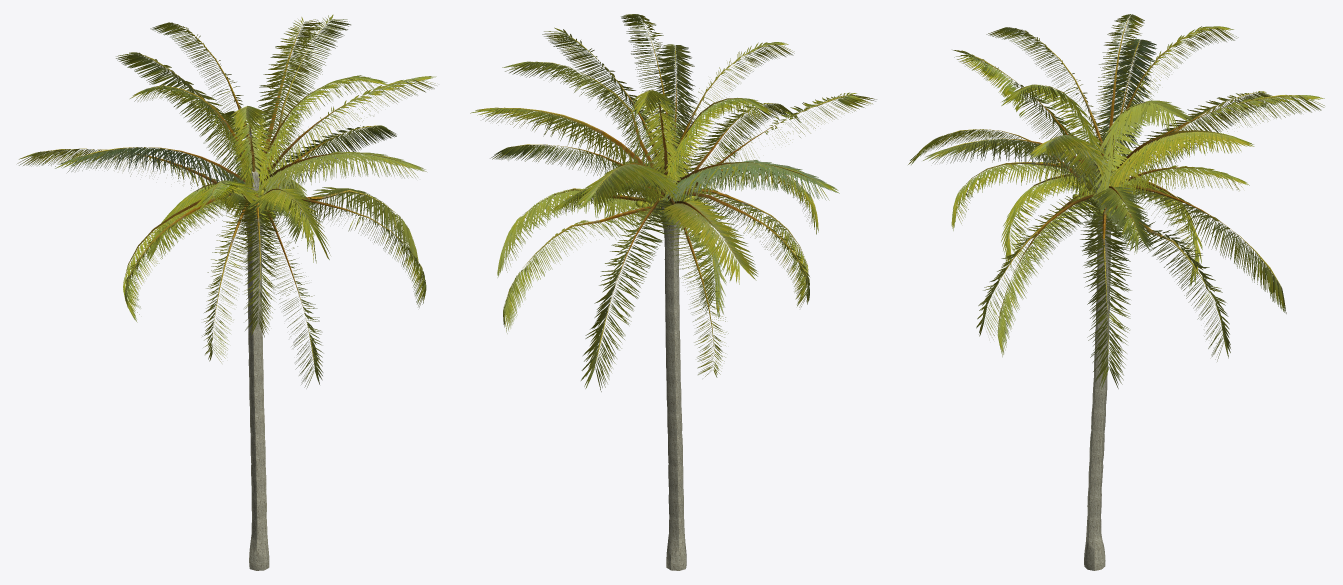
The model's file is coconut_tree.glb.
The picture shows the model from 3 angles, left to right: view 1: azimuth 30°, elevation 25°; view 2: azimuth 150°, elevation 25°; view 3: azimuth 270°, elevation 25°; orthographic projection. The views are drawn at different scales.
Parts seen in each view (by area): view 1: Object_3, Object_4, Object_5; view 2: Object_3, Object_4, Object_5; view 3: Object_3, Object_4, Object_5.
Part boxes in pixels (box(x1,y1,x2,y2)): Object_3: box(17, 14, 423, 387); Object_4: box(123, 76, 436, 387); Object_5: box(244, 169, 269, 570); Object_3: box(470, 14, 876, 363); Object_4: box(497, 27, 818, 391); Object_5: box(661, 171, 686, 570); Object_3: box(908, 14, 1324, 361); Object_4: box(923, 134, 1286, 389); Object_5: box(1084, 160, 1111, 570).
Size of the model in its own units: 777 by 1100 by 800.
3 materials, 3 textured.
